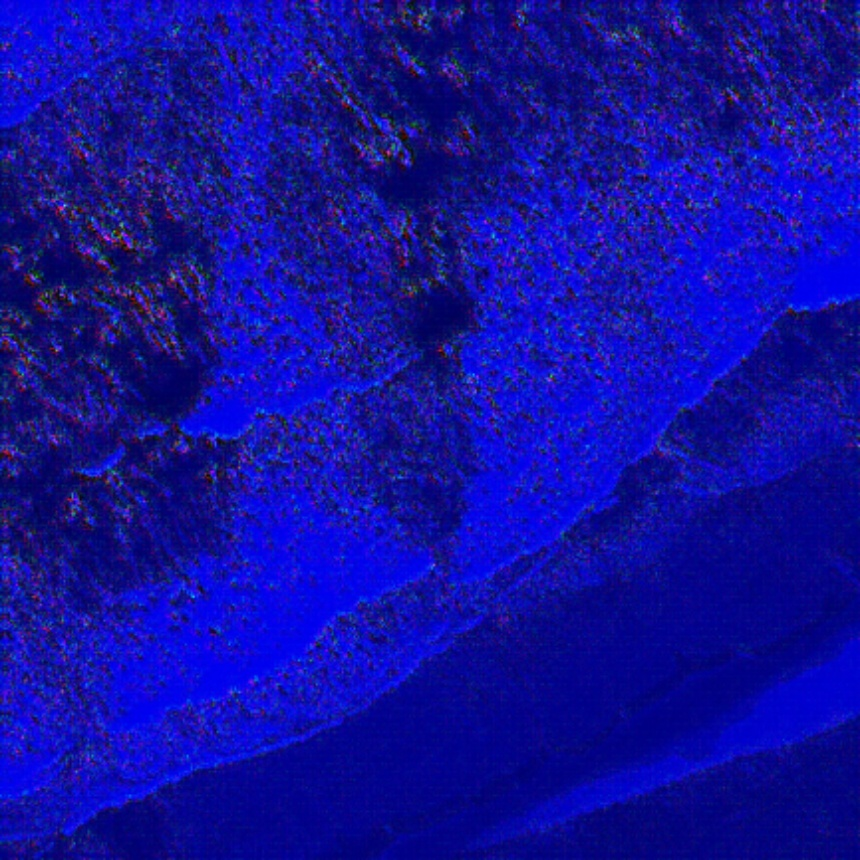rip_current: (229, 75, 544, 573)
